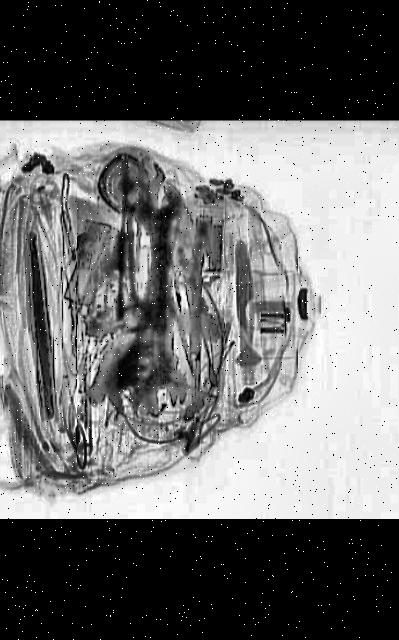Wrench: (106, 286, 190, 415), (134, 181, 186, 310), (138, 160, 167, 221)
